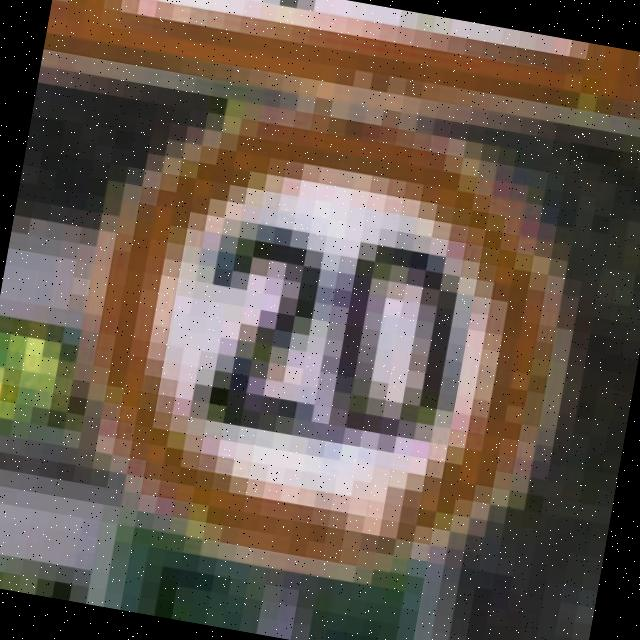Ograniczenie predkosci do 20: (60, 86, 595, 601)
